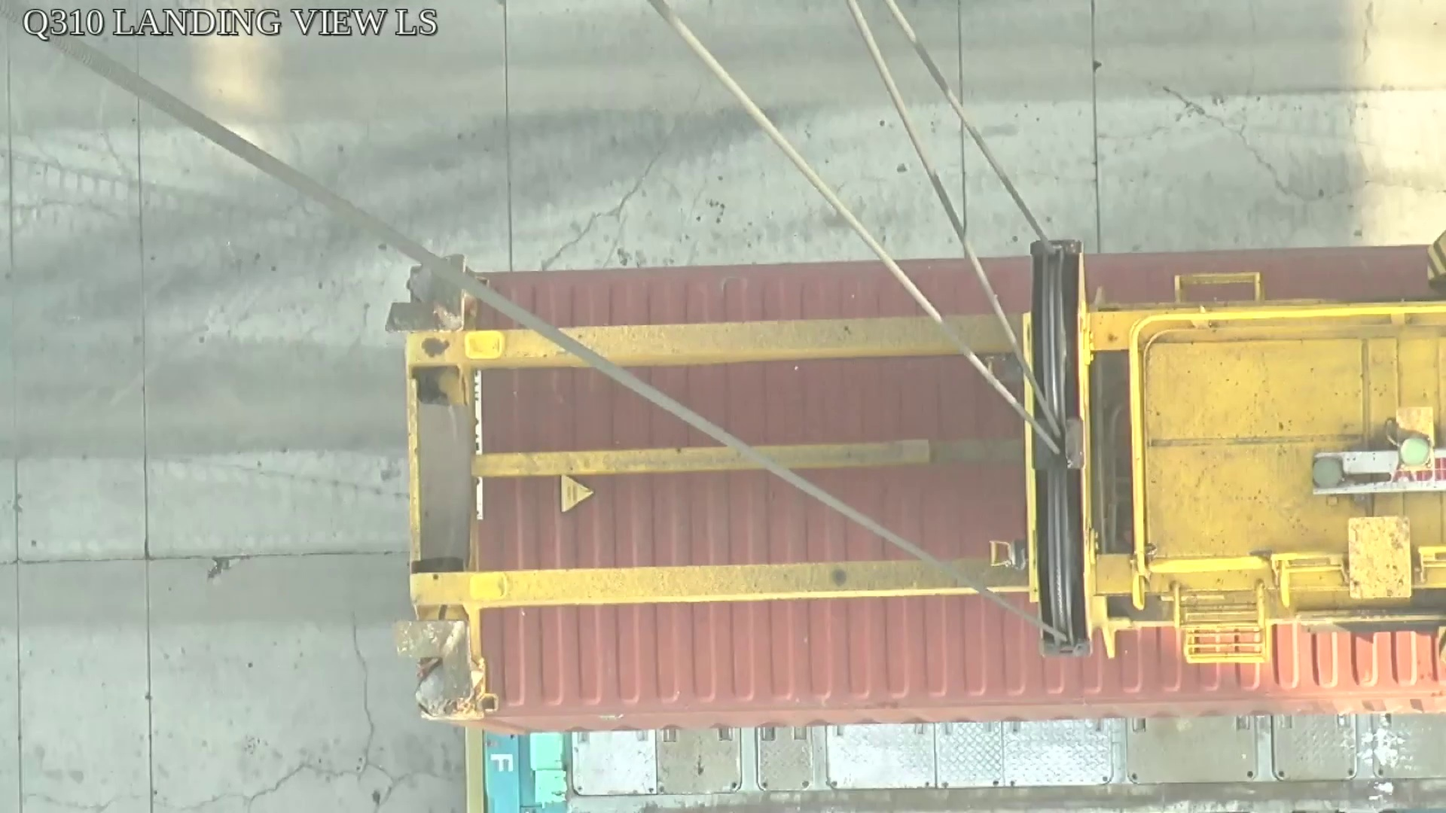aa: (1024, 243, 1098, 654)
